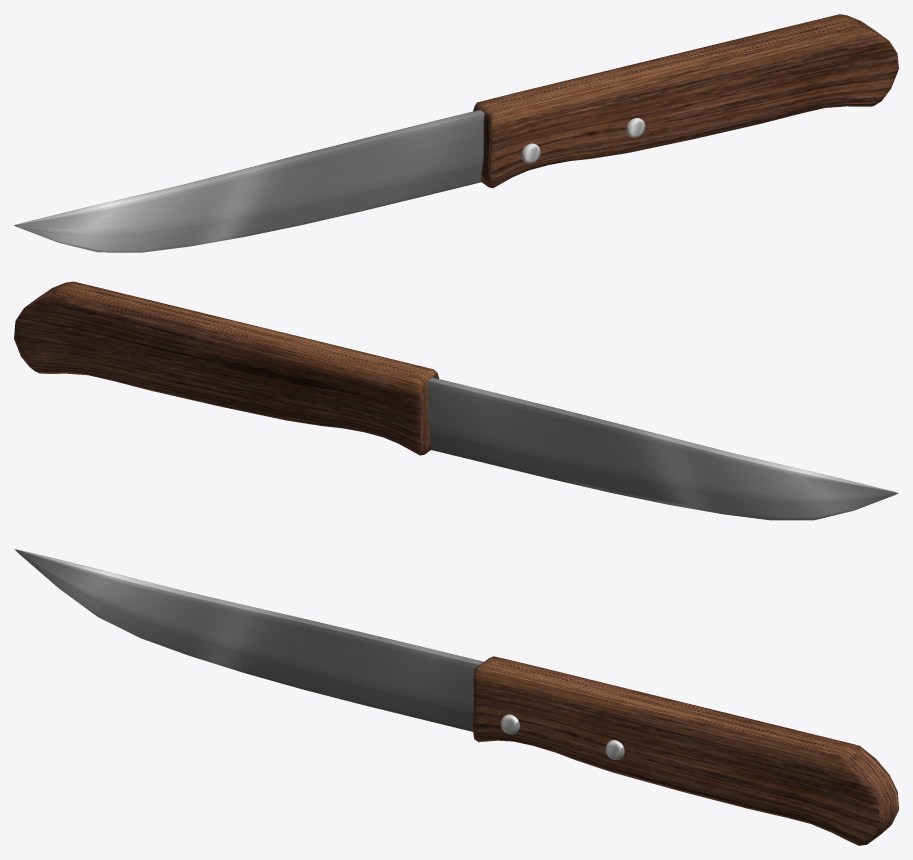
Rendered from cuchillo.glb.
3 renders of one model, top to bottom at view 1: azimuth 30°, elevation 25°; view 2: azimuth 150°, elevation 25°; view 3: azimuth 330°, elevation 25°, orthographic.
Visible parts, largest first — view 1: Object_3, Object_2, Object_4; view 2: Object_3, Object_2; view 3: Object_3, Object_2, Object_4.
Part boxes in pixels (box(x1,y1,x2,y2)): Object_3: box(473, 14, 898, 188); Object_2: box(14, 110, 484, 252); Object_4: box(521, 118, 645, 163); Object_3: box(14, 281, 439, 455); Object_2: box(428, 377, 898, 520); Object_3: box(473, 656, 898, 845); Object_2: box(14, 549, 483, 731); Object_4: box(500, 714, 624, 759).
Bounding box in the file's own units: 22.85 × 2.15 × 1.03.
3 materials, 3 textured.
